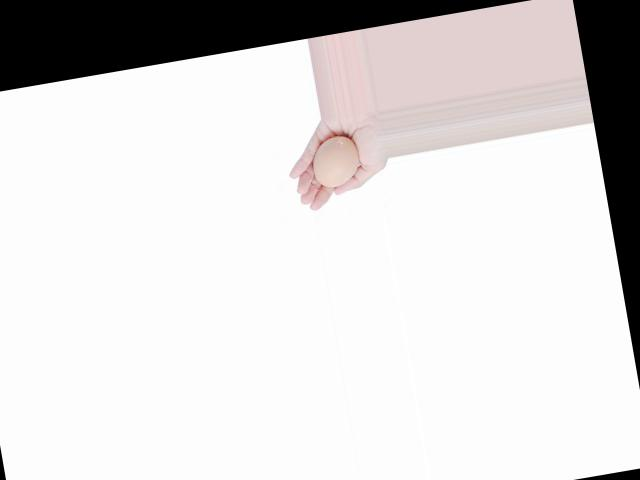egg: (308, 133, 362, 189)
